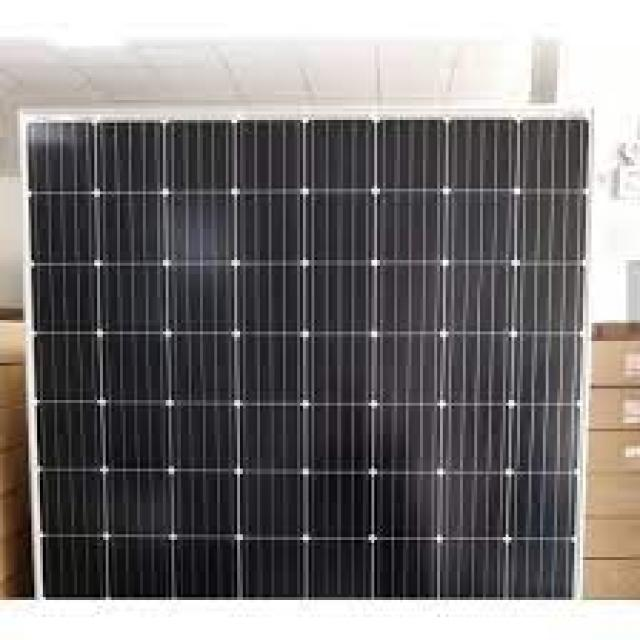no faulty: (28, 111, 590, 605)
